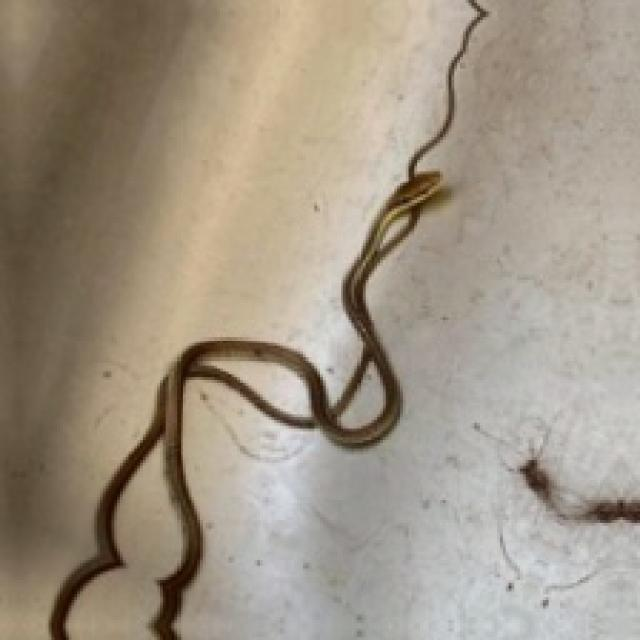luzon bronzeback treesnake: (51, 0, 488, 640)
